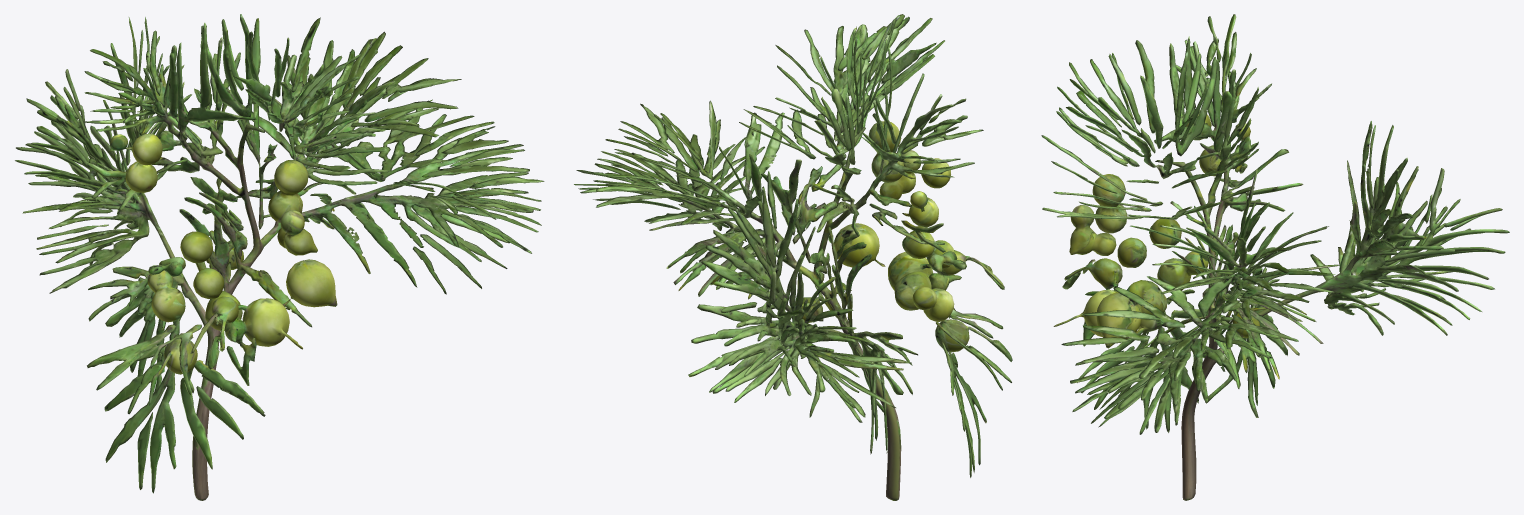
Rendered from amla.glb.
3 views of the same model, side by side, from view 1: azimuth 30°, elevation 25°; view 2: azimuth 150°, elevation 25°; view 3: azimuth 270°, elevation 25° (orthographic). The views are drawn at different scales.
Size of the model in its own units: 1.92 by 2 by 1.8.
1 material, 1 textured.
